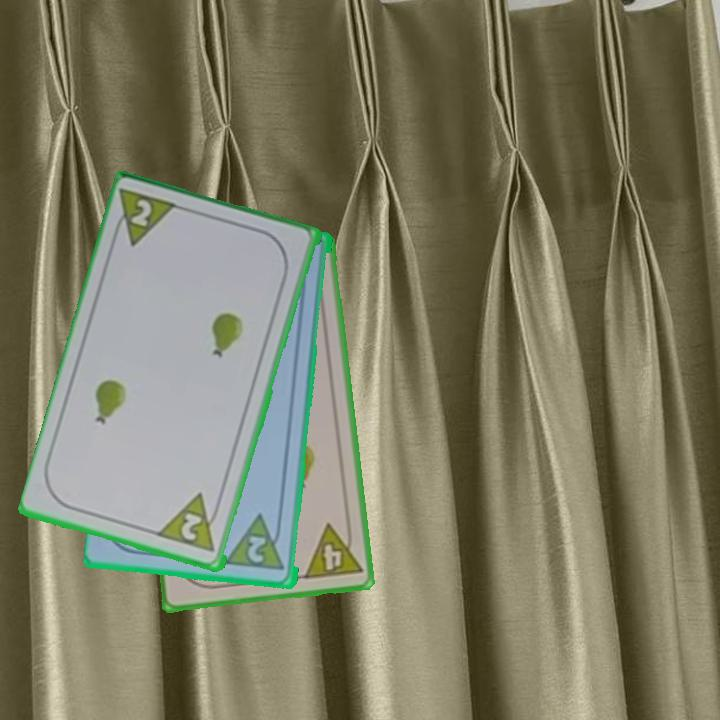2p: (108, 185, 183, 251), (156, 490, 225, 557), (245, 532, 269, 566)
4p: (300, 518, 365, 582)
